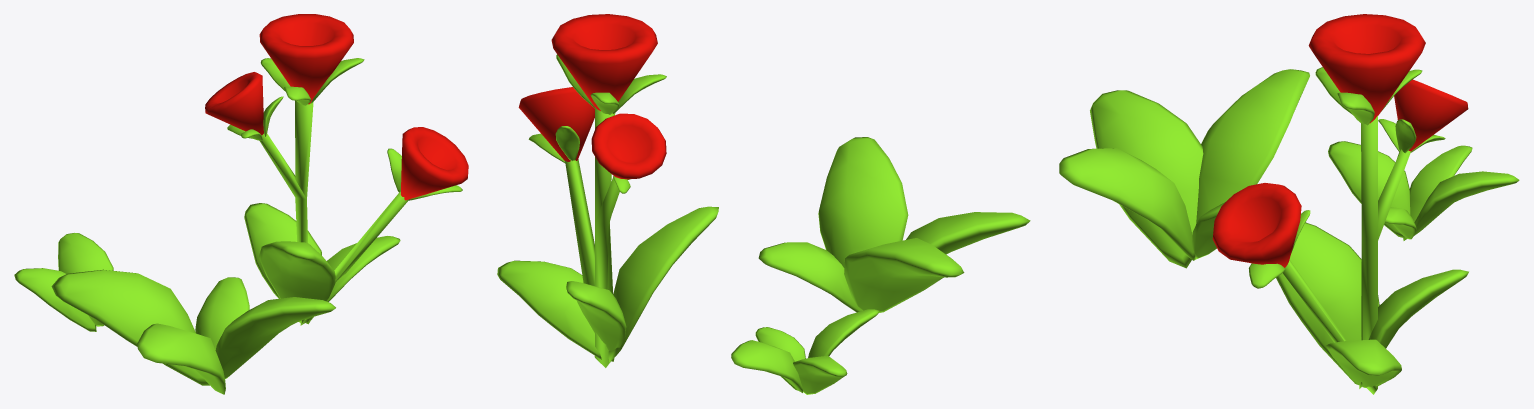
The model's file is flowers_2.fbx.
3 renders of one model, left to right at view 1: azimuth 30°, elevation 25°; view 2: azimuth 150°, elevation 25°; view 3: azimuth 270°, elevation 25°, orthographic. The views are drawn at different scales.
Parts seen in each view (by area): view 1: Sphere.006; view 2: Sphere.006; view 3: Sphere.006.
Boxes of the visible parts, x1,y1,x2,y2 form: Sphere.006: [14, 14, 468, 394]; Sphere.006: [497, 14, 1030, 394]; Sphere.006: [1059, 14, 1519, 394].
Bounding box in the file's own units: 138 × 97.11 × 112.
